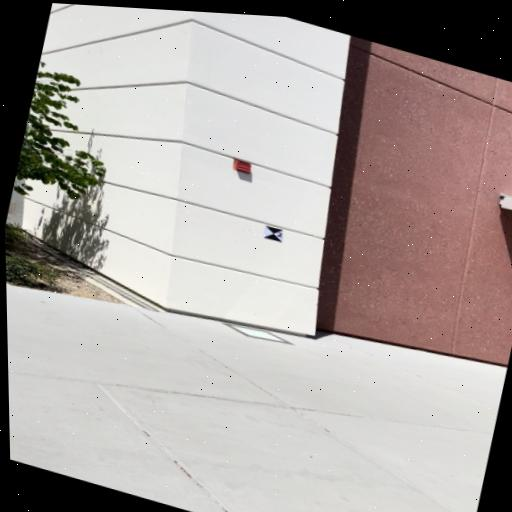target2: (263, 225, 286, 244)
